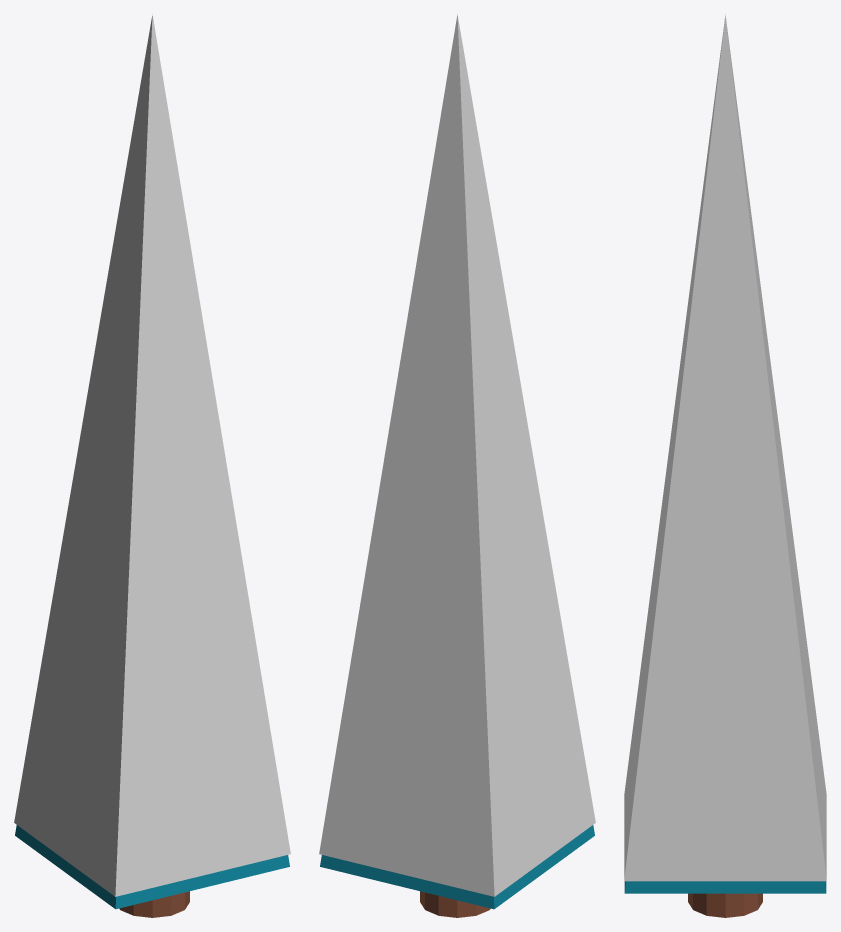
File: Tree_19_winter_blue.fbx
The picture shows the model from 3 angles, left to right: view 1: azimuth 30°, elevation 25°; view 2: azimuth 150°, elevation 25°; view 3: azimuth 270°, elevation 25°; orthographic projection.
Visible parts, largest first — view 1: Tree_19_winter_blue; view 2: Tree_19_winter_blue; view 3: Tree_19_winter_blue.
Part boxes in pixels (<box>): Tree_19_winter_blue: <box>14,14,290,917</box>; Tree_19_winter_blue: <box>319,14,595,917</box>; Tree_19_winter_blue: <box>624,14,826,917</box>.
Bounding box in the file's own units: 60.03 × 290 × 60.03.
